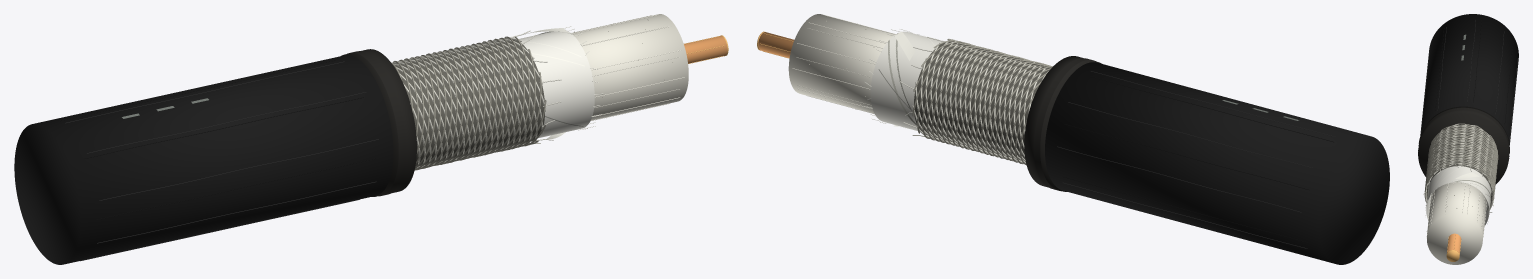
File: rf-canare-l4cfb-macro.glb
3 views of the same model, side by side, from view 1: azimuth 30°, elevation 25°; view 2: azimuth 150°, elevation 25°; view 3: azimuth 270°, elevation 25° (orthographic). The views are drawn at different scales.
Visible parts, largest first — view 1: macro jacket body, macro dielectric exposed core, shadow seen through braid windows, continuous foil sleeve under braid, thick jacket cut wall, rounded jacket cut lip, polished solid center conductor, macro braid shadow carrier 05 strand 1, macro braid shadow carrier 06 strand 1, macro braid shadow carrier 04 strand 1, macro braid shadow carrier 07 strand 1, macro braid shadow carrier 08 strand 1 (+6 smaller); view 2: macro jacket body, macro dielectric exposed core, shadow seen through braid windows, continuous foil sleeve under braid, thick jacket cut wall, rounded jacket cut lip, polished solid center conductor, macro braid shadow carrier 02 strand 1, macro braid shadow carrier 01 strand 1, macro braid shadow carrier 03 strand 1, macro braid shadow carrier 04 strand 1, macro braid shadow carrier 12 strand 1 (+5 smaller); view 3: macro jacket body, macro dielectric exposed core, thick jacket cut wall, continuous foil sleeve under braid, shadow seen through braid windows, rounded jacket cut lip, macro braid shadow carrier 05 strand 2, macro braid shadow carrier 11 strand 2, macro braid shadow carrier 10 strand 2, macro braid shadow carrier 08 strand 2, macro braid shadow carrier 07 strand 2, macro braid shadow carrier 09 strand 2 (+42 smaller).
Part boxes in pixels (box(x1,y1,x2,y2)): macro jacket body: box(14, 55, 393, 264); macro dielectric exposed core: box(572, 14, 688, 120); shadow seen through braid windows: box(395, 39, 544, 166); continuous foil sleeve under braid: box(518, 30, 594, 138); thick jacket cut wall: box(341, 49, 416, 196); rounded jacket cut lip: box(347, 51, 406, 196); polished solid center conductor: box(684, 35, 727, 63); macro braid shadow carrier 05 strand 1: box(417, 38, 513, 169); macro braid shadow carrier 06 strand 1: box(422, 37, 518, 168); macro braid shadow carrier 04 strand 1: box(414, 40, 507, 169); macro braid shadow carrier 07 strand 1: box(419, 37, 524, 167); macro braid shadow carrier 08 strand 1: box(434, 36, 530, 165); macro jacket body: box(1045, 62, 1389, 264); macro dielectric exposed core: box(788, 14, 894, 113); shadow seen through braid windows: box(914, 42, 1049, 160); continuous foil sleeve under braid: box(870, 31, 942, 130); thick jacket cut wall: box(1024, 56, 1101, 191); rounded jacket cut lip: box(1033, 58, 1095, 191); polished solid center conductor: box(758, 32, 794, 58); macro braid shadow carrier 02 strand 1: box(927, 48, 1047, 156); macro braid shadow carrier 01 strand 1: box(932, 49, 1051, 157); macro braid shadow carrier 03 strand 1: box(922, 47, 1050, 154); macro braid shadow carrier 04 strand 1: box(917, 46, 1045, 153); macro braid shadow carrier 12 strand 1: box(937, 50, 1052, 158); macro jacket body: box(1420, 14, 1518, 144); macro dielectric exposed core: box(1427, 182, 1486, 264); thick jacket cut wall: box(1418, 106, 1509, 184); continuous foil sleeve under braid: box(1426, 166, 1491, 225); shadow seen through braid windows: box(1426, 125, 1492, 204); rounded jacket cut lip: box(1418, 107, 1509, 158); macro braid shadow carrier 05 strand 2: box(1426, 138, 1498, 200); macro braid shadow carrier 11 strand 2: box(1424, 128, 1497, 202); macro braid shadow carrier 10 strand 2: box(1425, 126, 1497, 188); macro braid shadow carrier 08 strand 2: box(1425, 123, 1497, 185); macro braid shadow carrier 07 strand 2: box(1426, 125, 1497, 181); macro braid shadow carrier 09 strand 2: box(1425, 125, 1497, 185).
Bounding box in the file's own units: 6.46 × 1.24 × 1.36.
